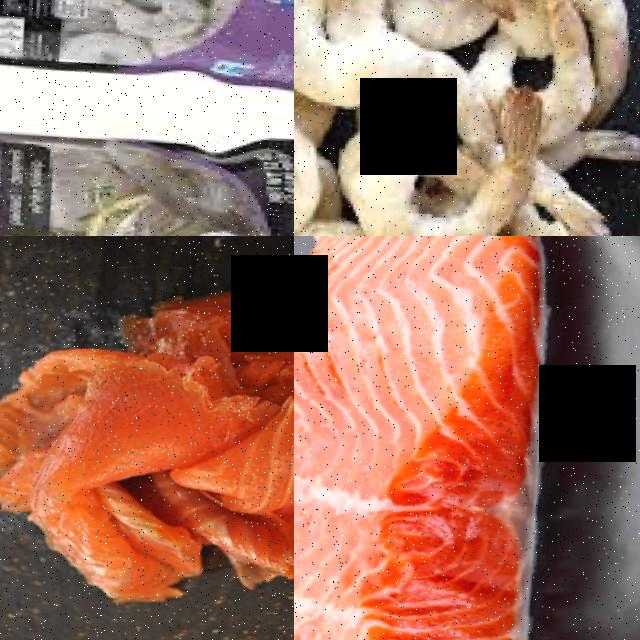salmon: (294, 236, 610, 640), (0, 335, 218, 617), (173, 413, 294, 606)
shrimp: (331, 76, 543, 236), (294, 0, 438, 120), (101, 0, 207, 59)
